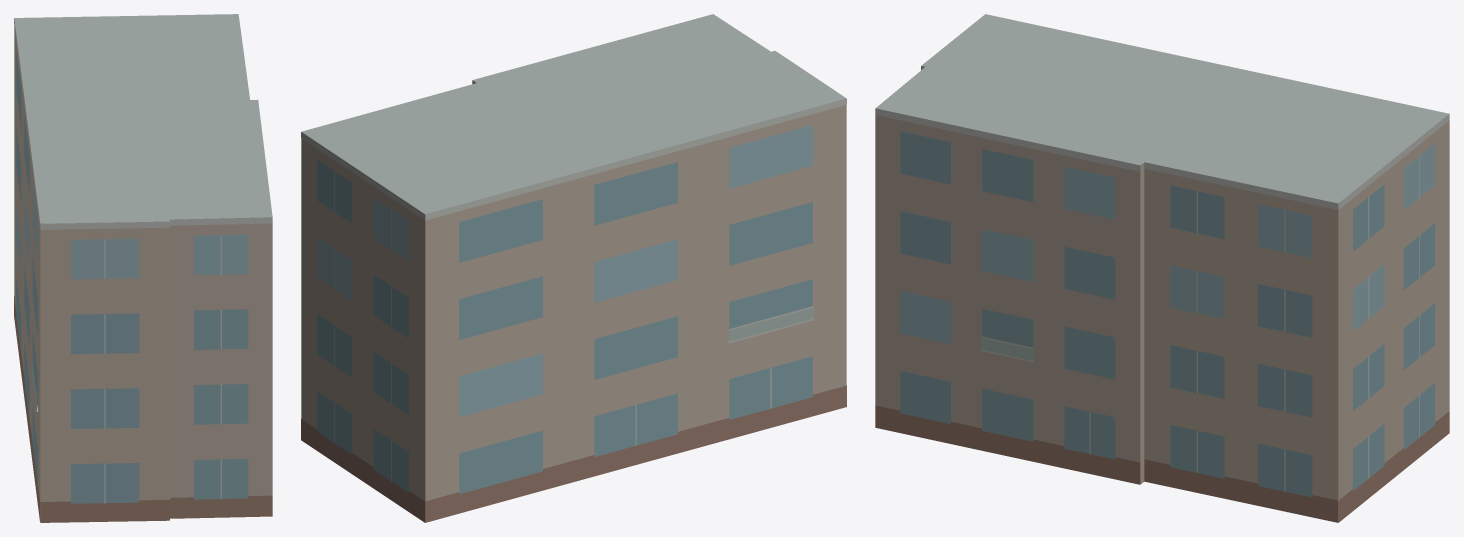
The model's file is survey-upis-32811148.glb.
The picture shows the model from 3 angles, left to right: view 1: azimuth 30°, elevation 25°; view 2: azimuth 150°, elevation 25°; view 3: azimuth 270°, elevation 25°; orthographic projection. The views are drawn at different scales.
Visible parts, largest first — view 1: survey-upis-32811148.tmp; view 2: survey-upis-32811148.tmp; view 3: survey-upis-32811148.tmp.
Part boxes in pixels (left/top/right/bottom): survey-upis-32811148.tmp: left=14, top=14, right=272, bottom=522; survey-upis-32811148.tmp: left=301, top=14, right=846, bottom=522; survey-upis-32811148.tmp: left=875, top=14, right=1449, bottom=522.
Size of the model in its own units: 15.15 by 11.9 by 19.39.
